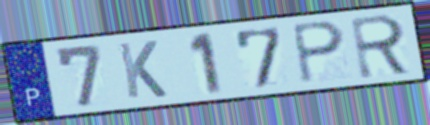1: (186, 30, 226, 96)
7: (52, 43, 104, 108), (233, 24, 283, 90)
K: (115, 39, 171, 101)
P: (289, 20, 348, 87)
R: (348, 12, 415, 81)
